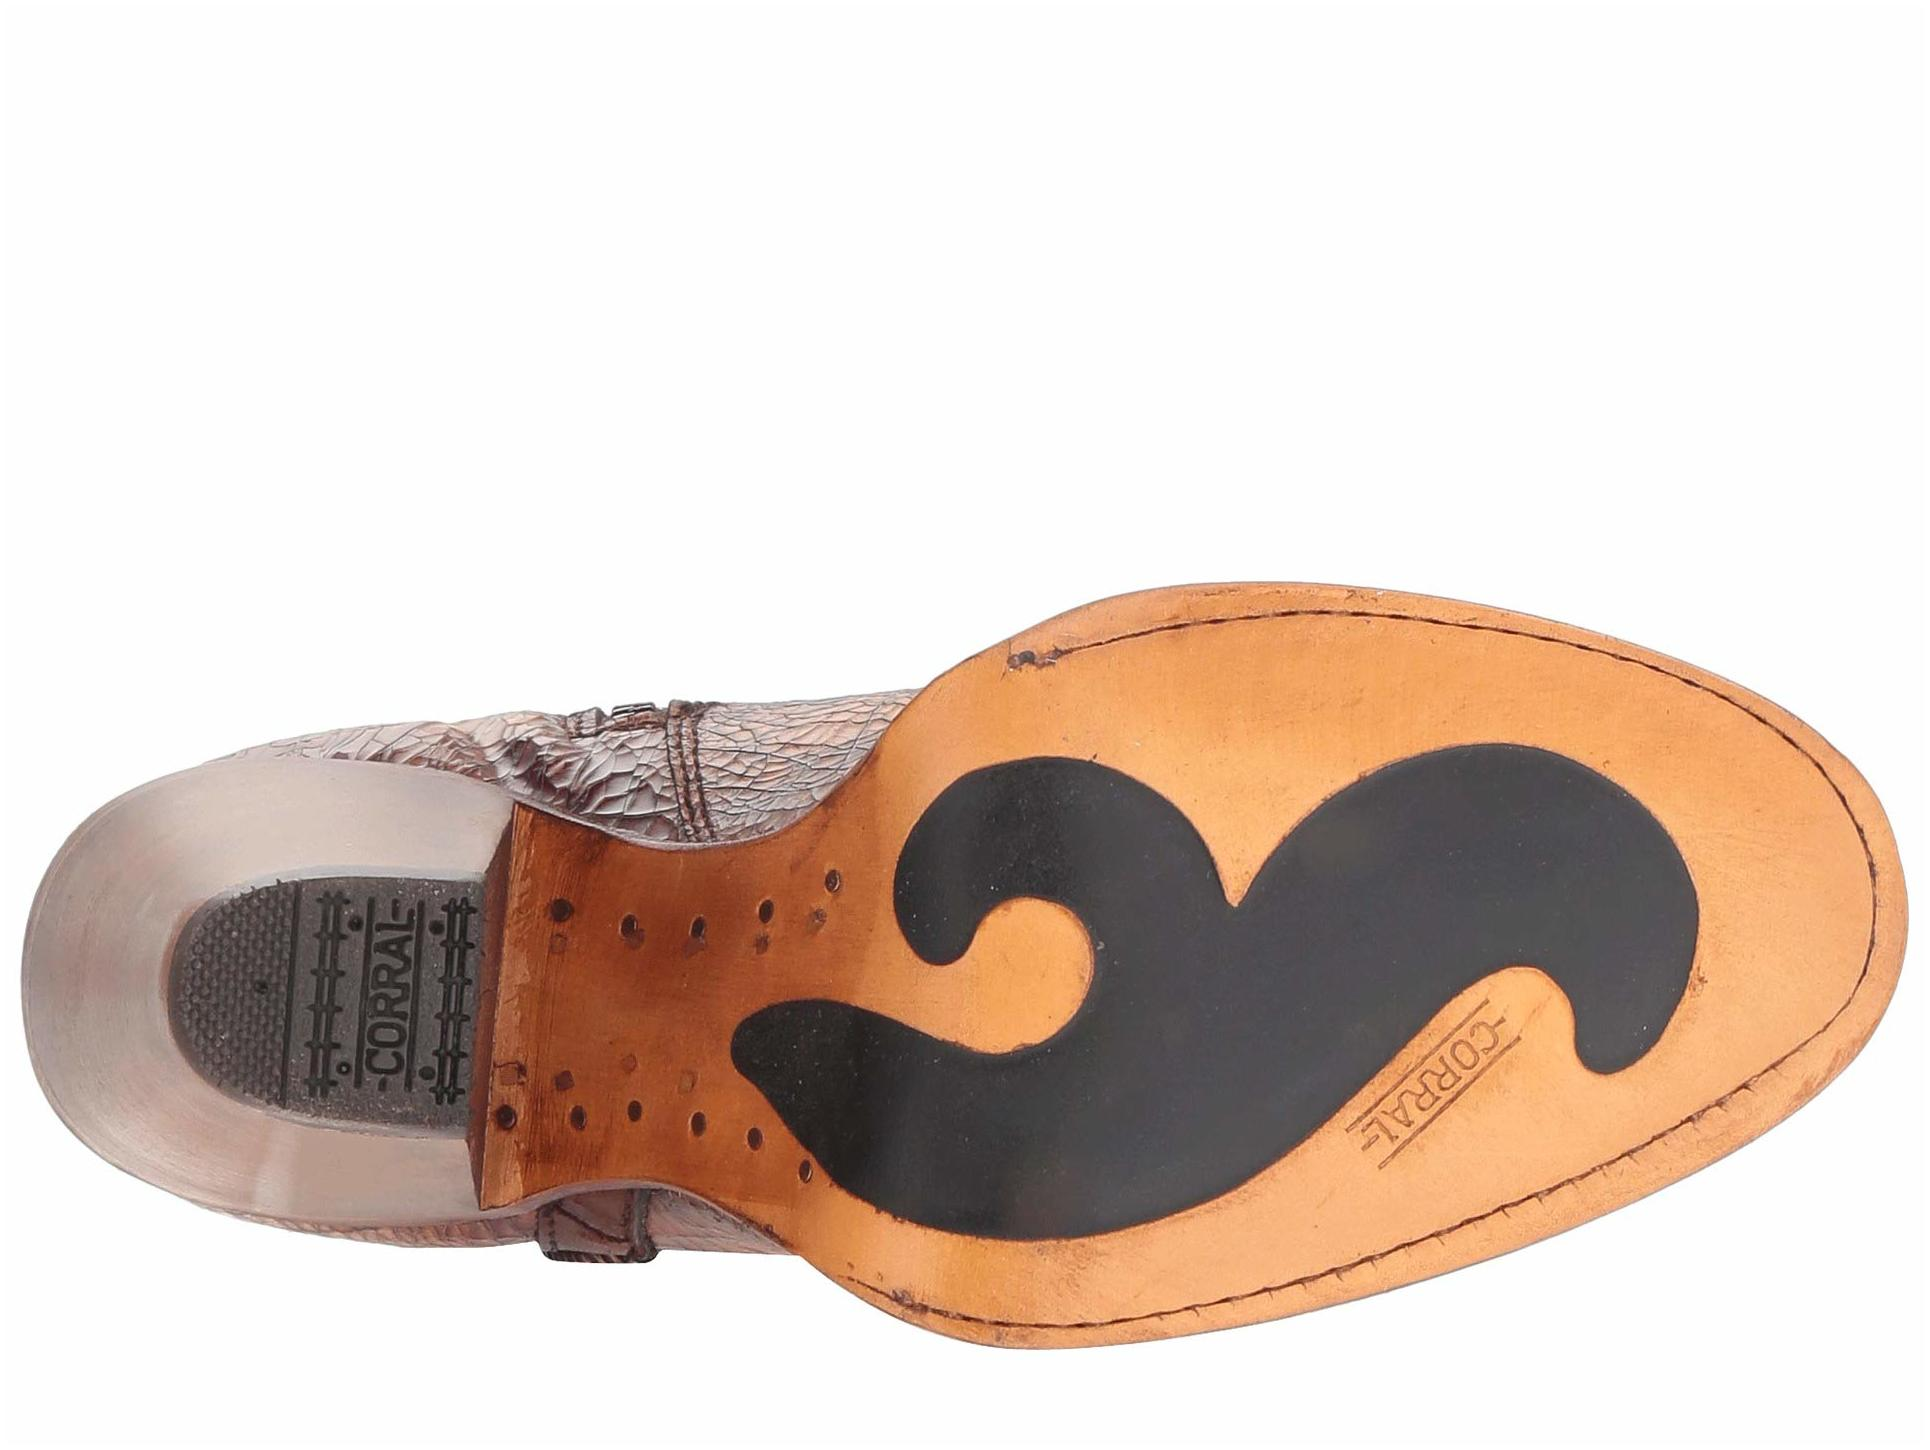circle: (1330, 937, 1546, 1194)
line: (1330, 937, 1546, 1194)
text: (1330, 937, 1546, 1194)
